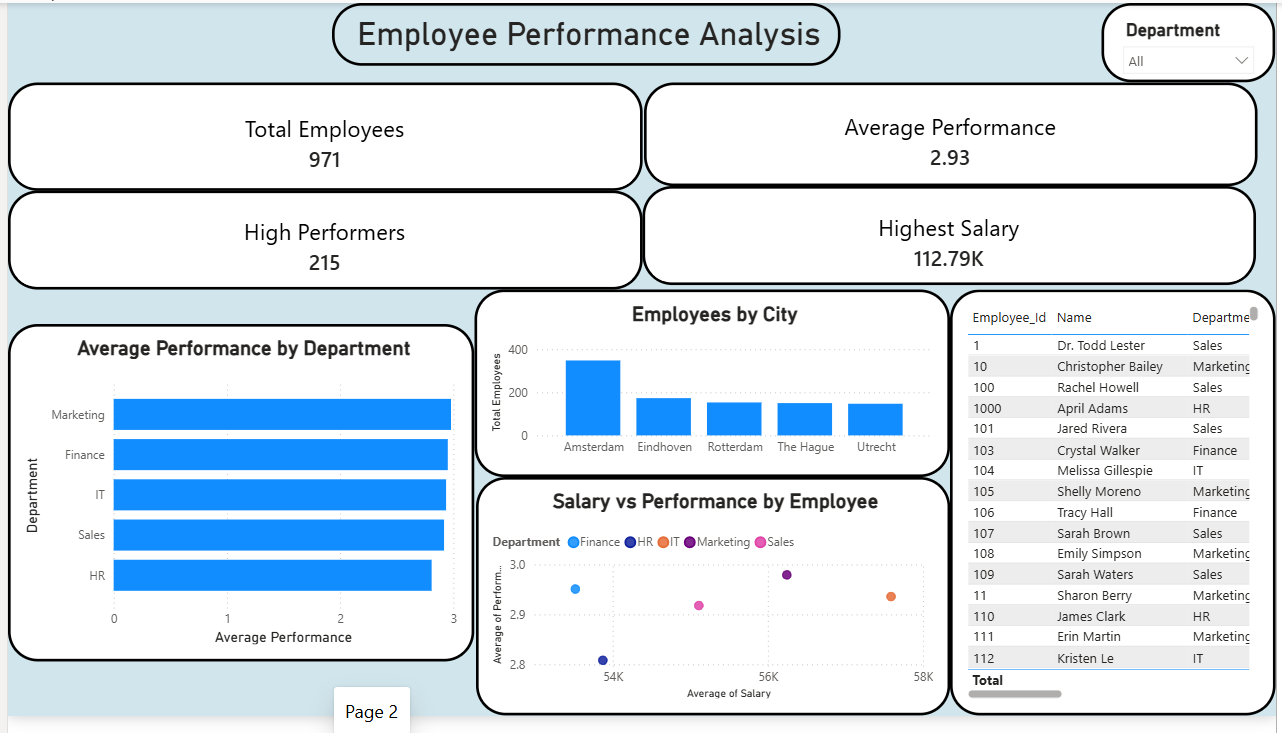

What the dashboard file says about the page in this screenshot:
{"tool":"powerbi","page":{"name":"Page 2","canvas":[1280,720],"ordinal":1},"visuals":[{"type":"textbox","title":"Employee Performance Analysis","box":[327.1,0,513.3,63.6],"z":0},{"type":"cardVisual","fields":{"Data":["Sheet1.High Performers"]},"box":[0,205.9,640.5,99.9],"z":1},{"type":"cardVisual","fields":{"Data":["Sheet1.Average Performance"]},"box":[640.5,98.4,619.3,104.5],"z":2},{"type":"cardVisual","fields":{"Data":["Sheet1.Highest Salary"]},"box":[640.5,205.9,619.3,99.9],"z":3},{"type":"cardVisual","fields":{"Data":["Sheet1.Total Employees"]},"box":[0,96.9,640.5,109],"z":4},{"type":"clusteredBarChart","fields":{"Category":["Sheet1.Department"],"Y":["Sheet1.Average Performance"]},"box":[0,324,470.9,340.7],"z":5},{"type":"clusteredColumnChart","title":"Employees by City","fields":{"Category":["Sheet1.City"],"Y":["Sheet1.Total Employees"]},"box":[470.9,305.9,480,189.3],"z":6},{"type":"tableEx","fields":{"Values":["Sheet1.Employee_Id","Sheet1.Name","Sheet1.Department","Sum(Sheet1.Salary)","Sum(Sheet1.Performance_Score)","Sheet1.City","Sheet1.Join_Date"]},"box":[950.9,305.9,319.5,230.2],"z":7},{"type":"scatterChart","fields":{"X":["Sheet1.Salary"],"Y":["Sheet1.Performance_Score"],"Series":["Sheet1.Department"]},"box":[470.9,508.8,480,210.5],"z":8}]}

Visuals, with their boxes in screenshot pixels (x1, y1, x2, y2), scaled from the page's 1280x720 canvas onto the 1282x733 screenshot:
"Employee Performance Analysis" textbox: l=328, t=0, r=842, b=65
cardVisual - Sheet1.High Performers: l=0, t=210, r=642, b=311
cardVisual - Sheet1.Average Performance: l=642, t=100, r=1262, b=207
cardVisual - Sheet1.Highest Salary: l=642, t=210, r=1262, b=311
cardVisual - Sheet1.Total Employees: l=0, t=99, r=642, b=210
clusteredBarChart - Sheet1.Department x Sheet1.Average Performance: l=0, t=330, r=472, b=677
"Employees by City" clusteredColumnChart: l=472, t=311, r=952, b=504
tableEx - Sheet1.Employee_Id x Sheet1.Name: l=952, t=311, r=1272, b=546
scatterChart - Sheet1.Salary x Sheet1.Performance_Score: l=472, t=518, r=952, b=732
